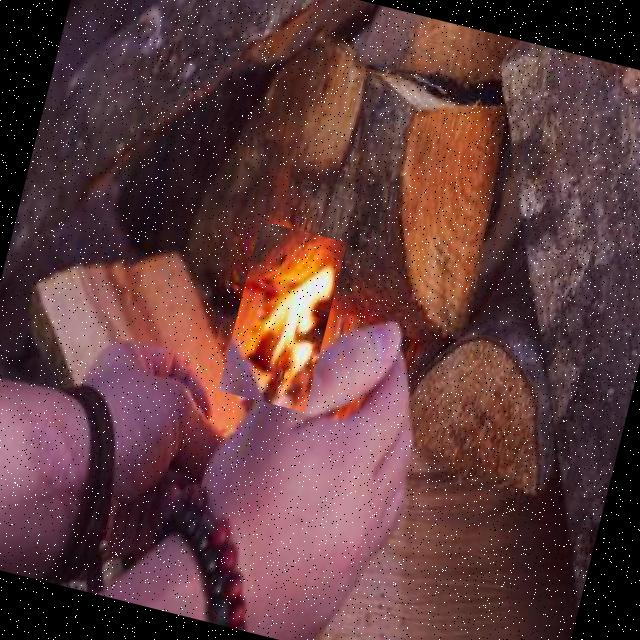fire: (218, 221, 347, 412)
